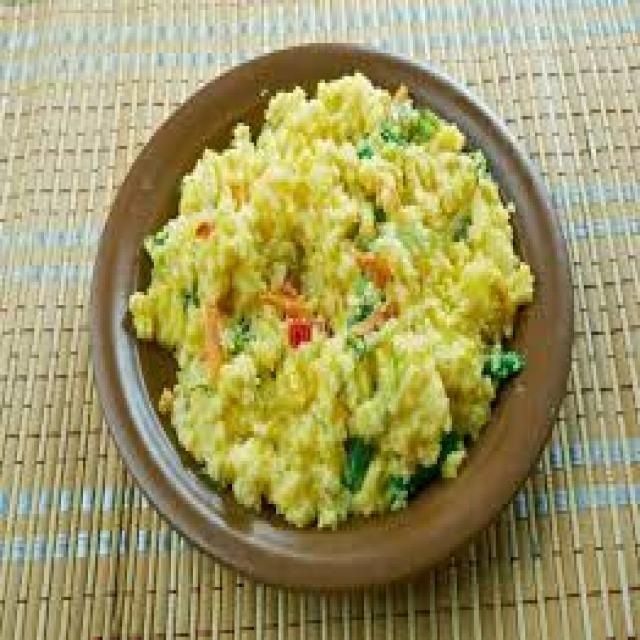UPMA: (127, 73, 530, 521)
